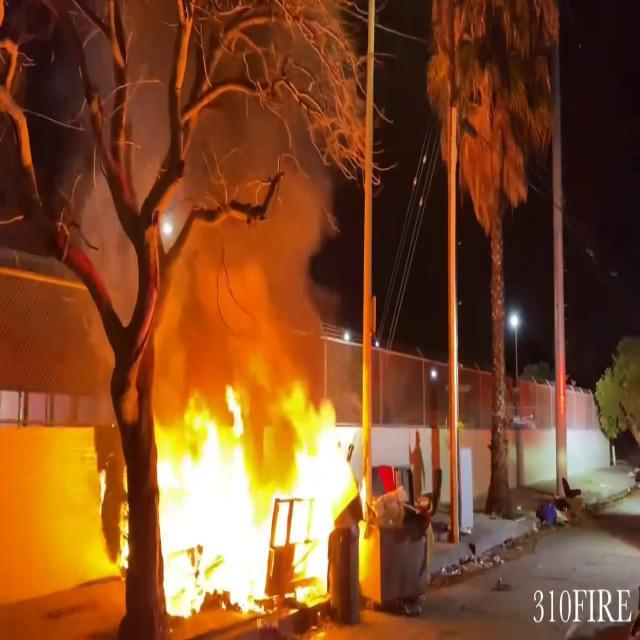Fire: (153, 367, 360, 625)
Smoke: (92, 34, 352, 406)
